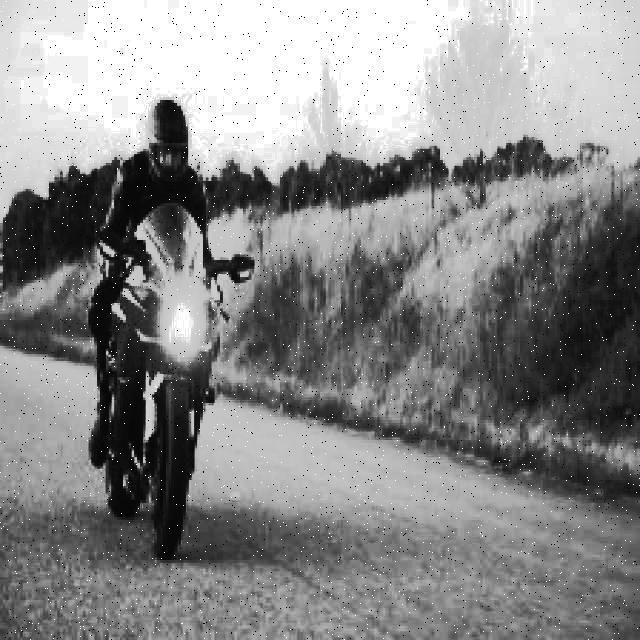Bike: (107, 222, 218, 551)
